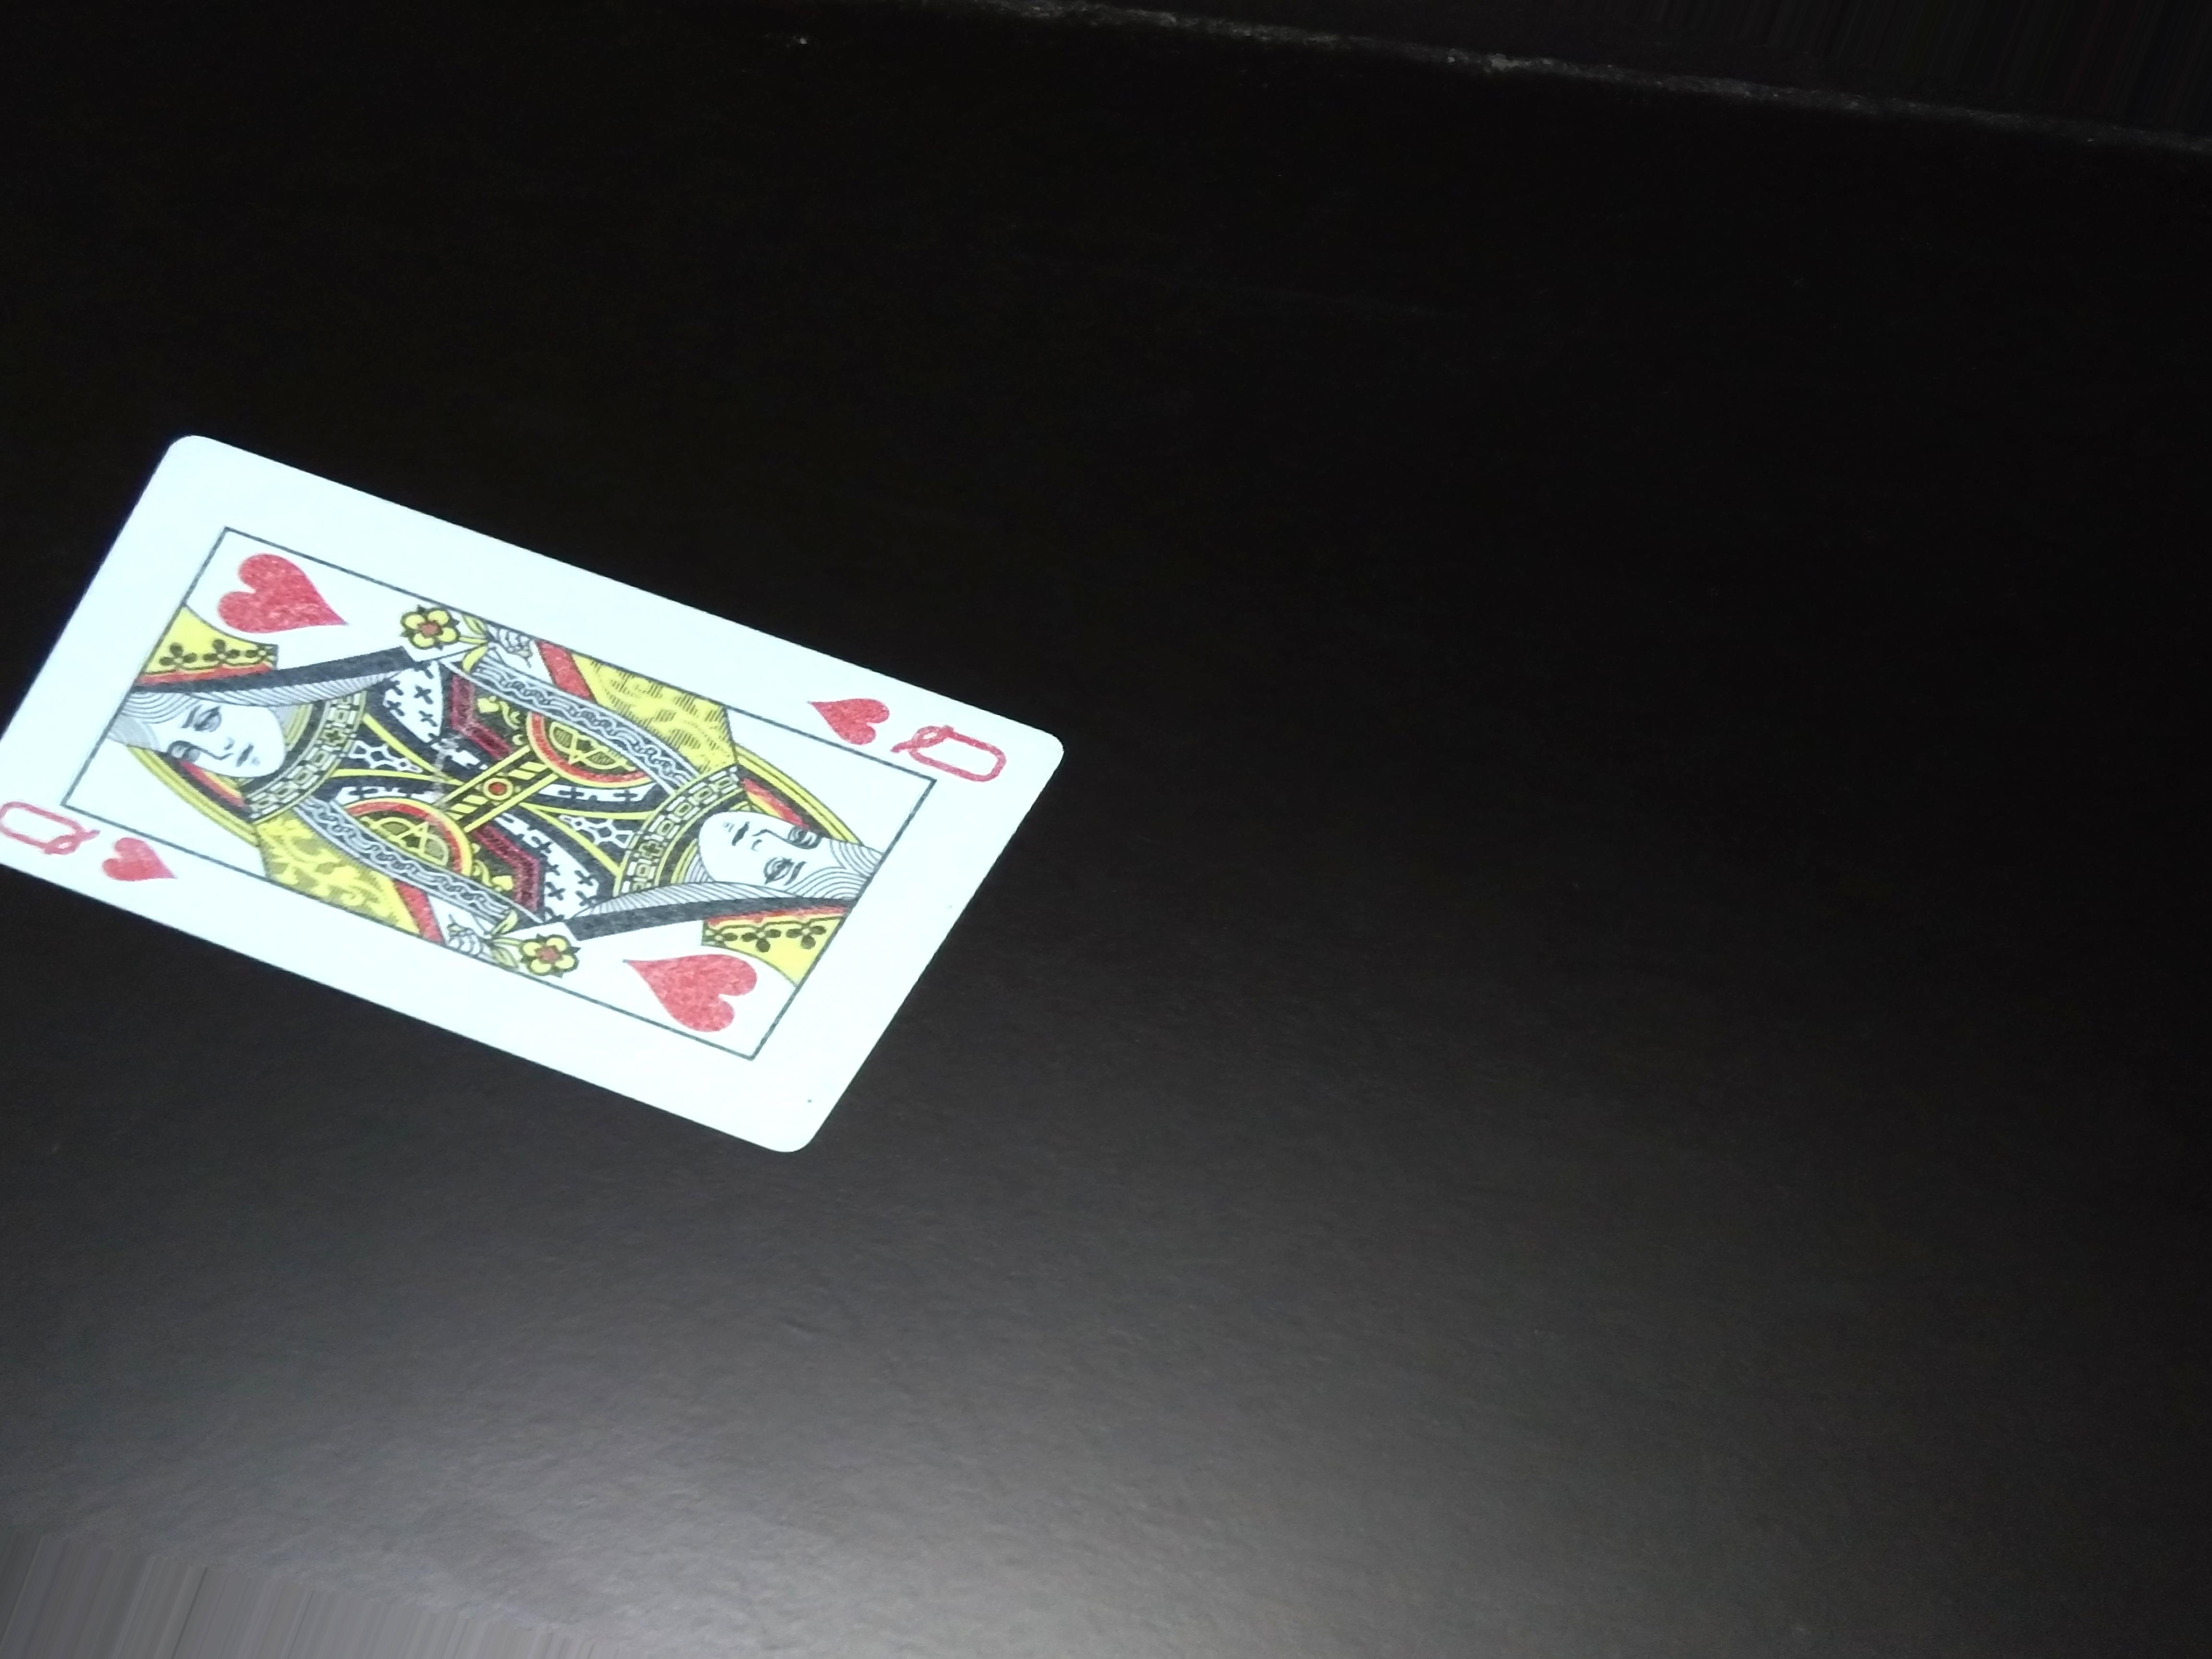QH: (808, 681, 1029, 798)
